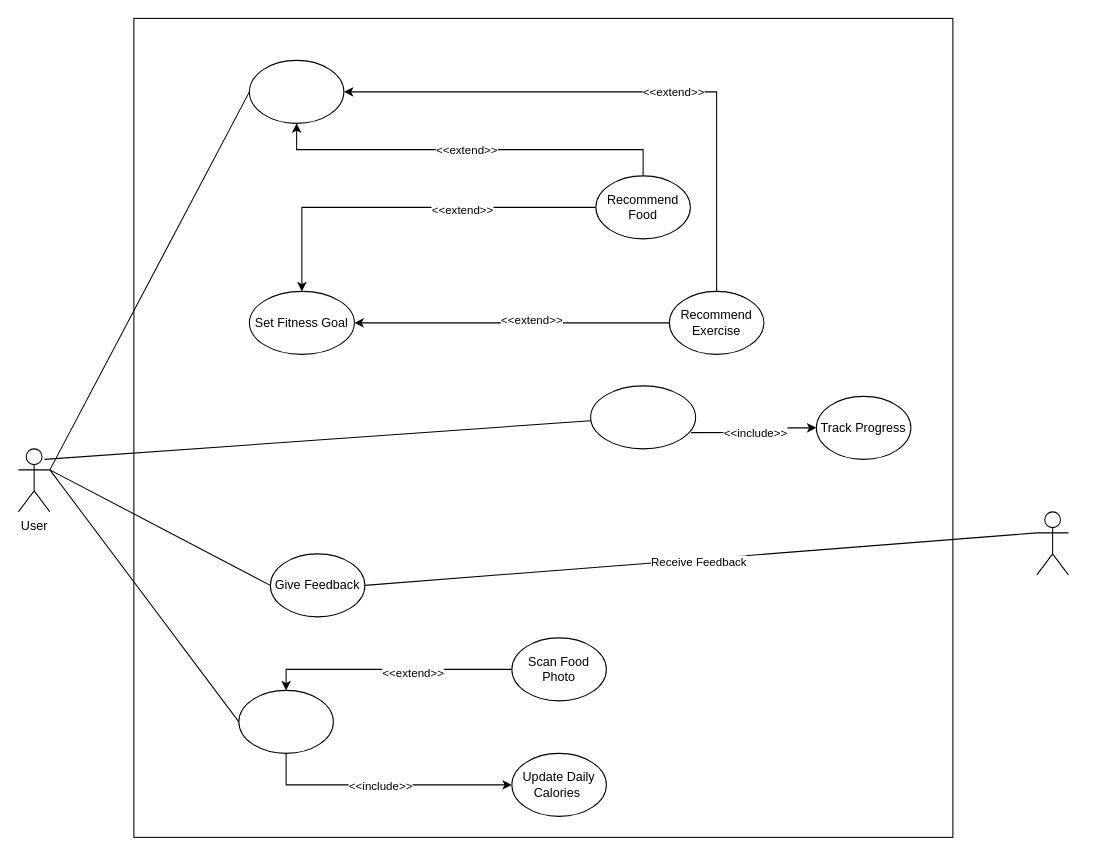
This 1099x856 diagram has some shape labels left out. Each missing label, with the centre of its shape:
"Developer" goes at point (1052, 543).
"Log Food" goes at point (285, 721).
"Select Body Type" goes at point (296, 91).
"Set Workout" goes at point (643, 417).
